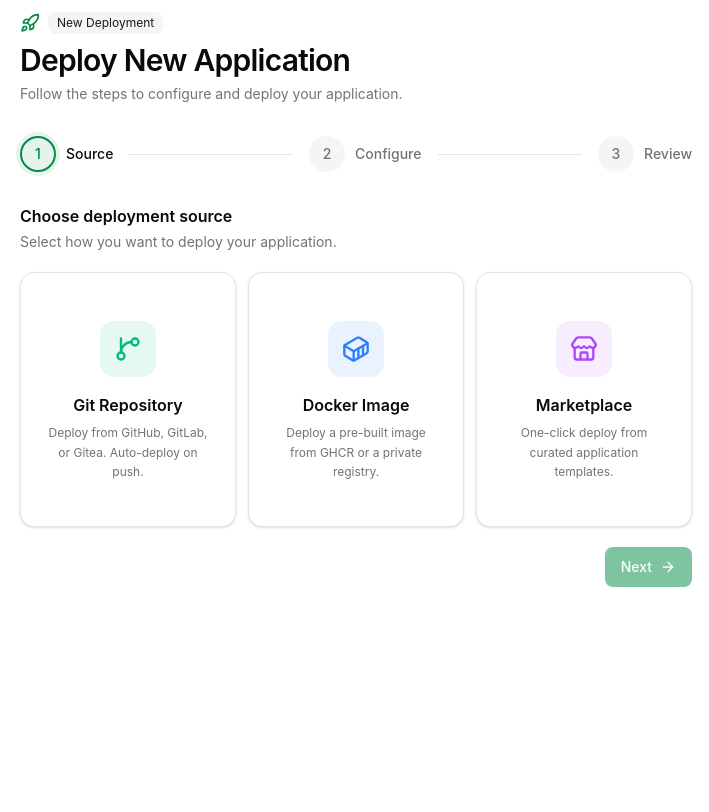
Test: DeployWizard page › shows the Docker image field for the image source and hides the git fields
This screenshot has width=709, height=812.
Click the text "Docker Image": point(356, 405) [303,395,409,415]
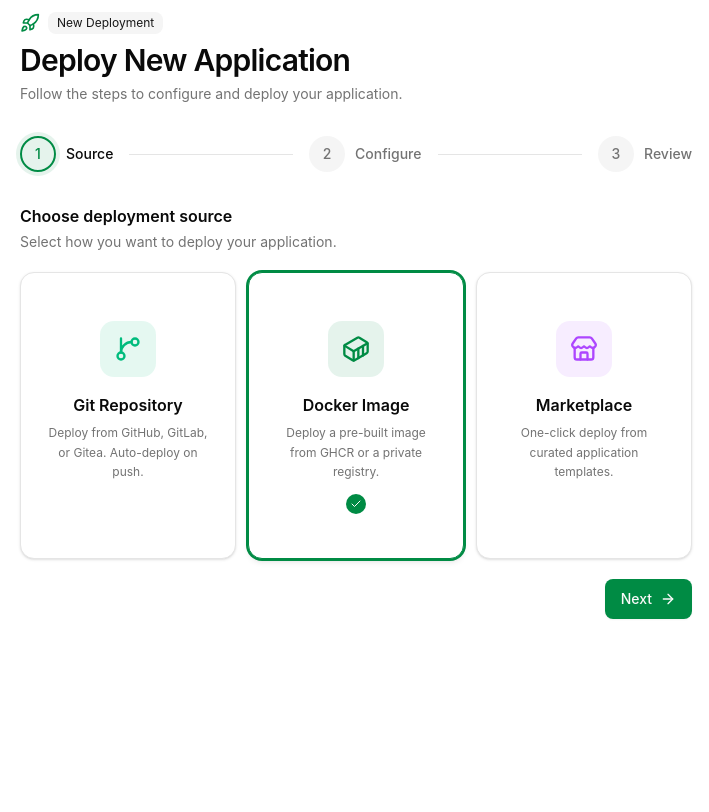
Click the button "Next": point(648, 598) [605,578,692,618]
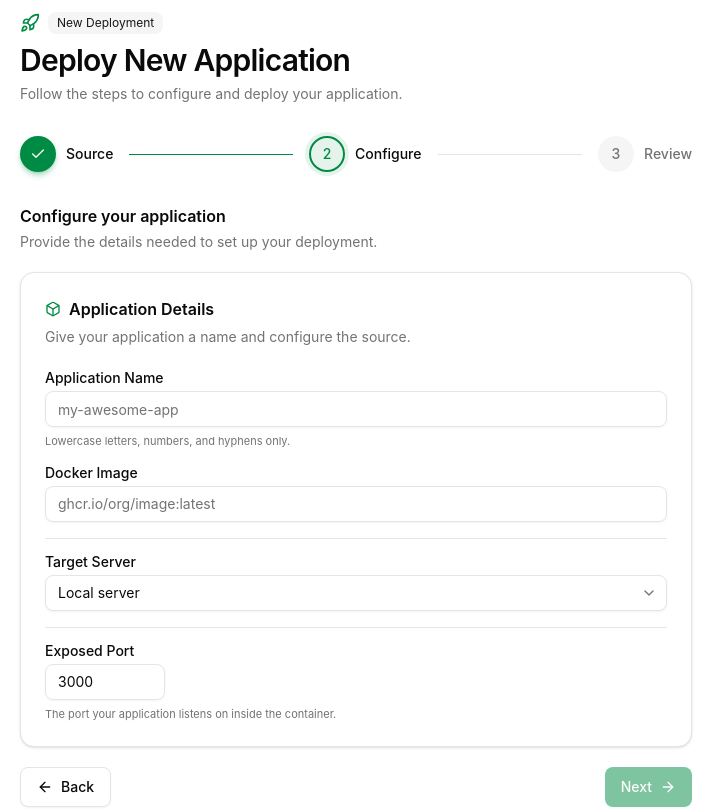
Now the field labelled "Docker Image" is shown, box [45,486,667,522]
